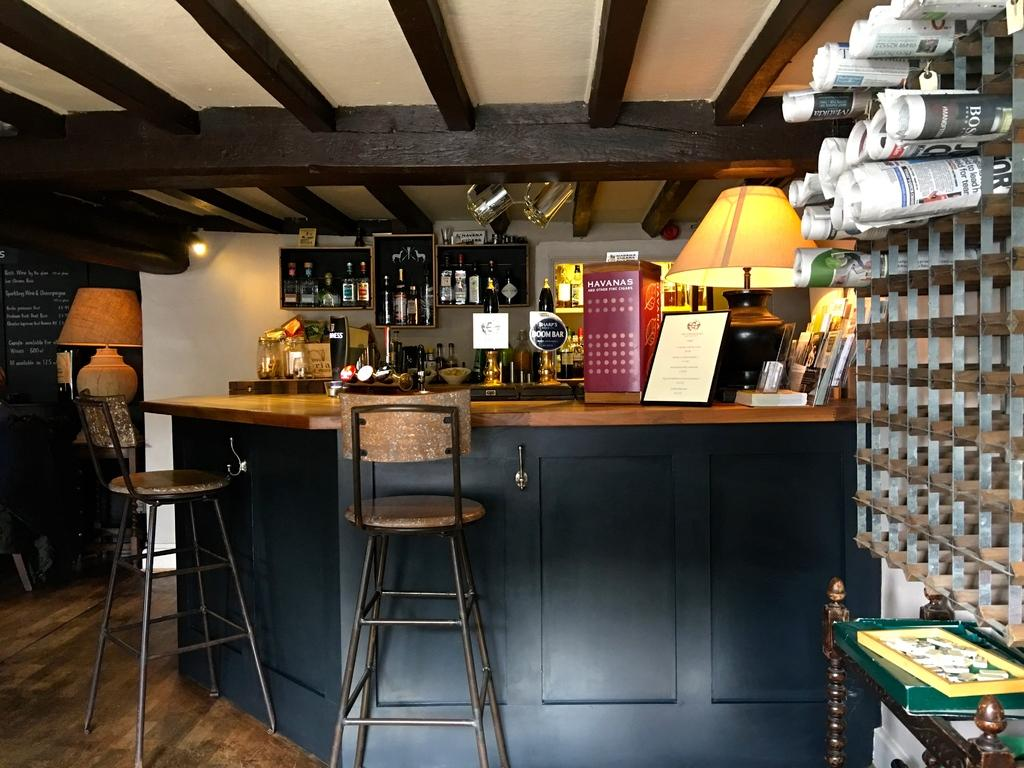Chair: (72, 391, 276, 766), (328, 395, 510, 767)
